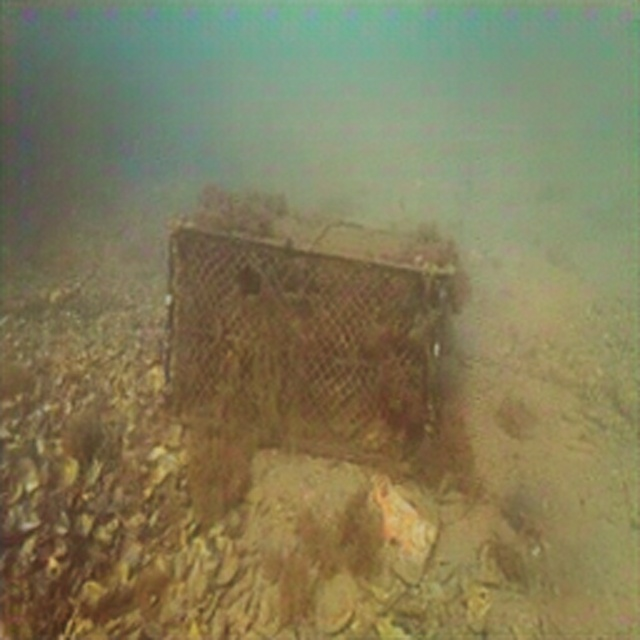mine: (164, 185, 465, 488)
